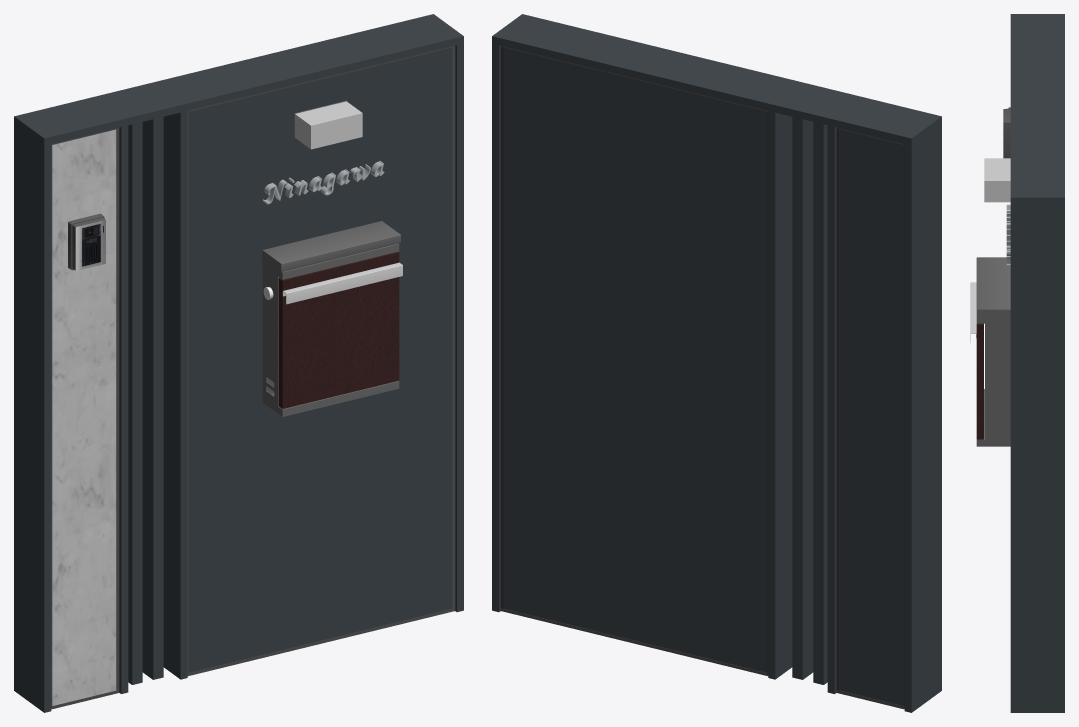
Rendered from ab46_whitemarble.fbx.
3 renders of one model, left to right at view 1: azimuth 30°, elevation 25°; view 2: azimuth 150°, elevation 25°; view 3: azimuth 270°, elevation 25°, orthographic. The views are drawn at different scales.
Parts seen in each view (by area): view 1: ab46-whitemable2; view 2: ab46-whitemable2; view 3: ab46-whitemable2.
Boxes of the visible parts, bbox=[...] form: ab46-whitemable2: bbox=[14, 14, 463, 712]; ab46-whitemable2: bbox=[492, 14, 941, 712]; ab46-whitemable2: bbox=[970, 14, 1064, 712].
Bounding box in the file's own units: 120 × 157 × 26.16.
Materials: 18 (7 with a texture image).
